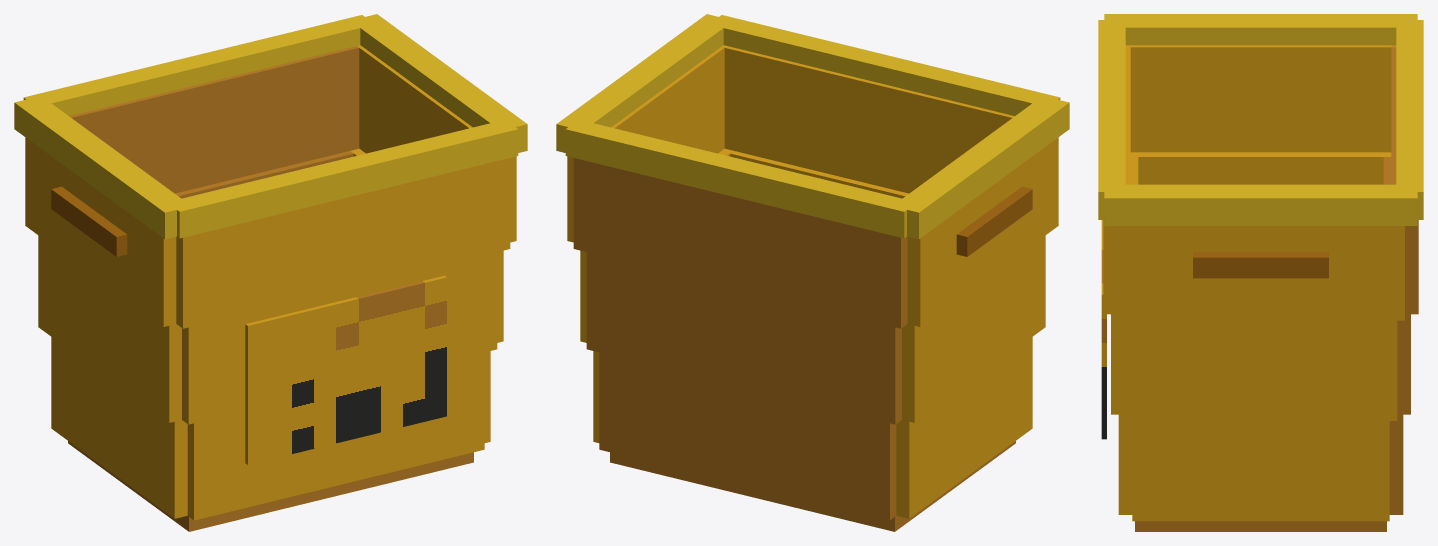
Rendered from CMU3DHandRMCBucketJanitorialCloud.glb.
3 renders of one model, left to right at view 1: azimuth 30°, elevation 25°; view 2: azimuth 150°, elevation 25°; view 3: azimuth 270°, elevation 25°, orthographic. The views are drawn at different scales.
Visible parts, largest first — view 1: janitorial end wall 2--1, original janitorial front warning, janitorial end wall 2-1, janitorial end wall 0--1, janitorial end wall 1--1, open yellow rim end -1, janitorial side wall 1--1, janitorial side wall 0--1, janitorial side wall 2--1, open yellow rim end 1, open yellow rim side -1, janitorial side wall 2-1 (+6 smaller); view 2: janitorial end wall 1-1, janitorial end wall 2-1, janitorial end wall 0-1, janitorial end wall 2--1, open yellow rim end 1, janitorial side wall 1--1, janitorial side wall 0--1, janitorial side wall 2--1, open yellow rim end -1, open yellow rim side -1, janitorial side wall 2-1, open yellow rim side 1 (+5 smaller); view 3: janitorial side wall 2--1, janitorial side wall 1-1, janitorial side wall 0-1, janitorial side wall 2-1, open yellow rim side 1, open yellow rim side -1, janitorial side wall 1--1, open yellow rim end -1, open yellow rim end 1, molded side grip 1, janitorial bucket base, janitorial end wall 2-1 (+6 smaller).
Boxes of the visible parts, left/top/right/bottom form: janitorial end wall 2--1: left=176, top=158, right=510, bottom=328; original janitorial front warning: left=245, top=275, right=446, bottom=464; janitorial end wall 2-1: left=69, top=45, right=360, bottom=193; janitorial end wall 0--1: left=187, top=352, right=484, bottom=520; janitorial end wall 1--1: left=182, top=252, right=497, bottom=424; open yellow rim end -1: left=168, top=120, right=518, bottom=238; janitorial side wall 1--1: left=38, top=235, right=181, bottom=422; janitorial side wall 0--1: left=51, top=337, right=187, bottom=518; janitorial side wall 2--1: left=25, top=137, right=176, bottom=326; open yellow rim end 1: left=23, top=15, right=371, bottom=115; open yellow rim side -1: left=14, top=96, right=191, bottom=239; janitorial side wall 2-1: left=357, top=45, right=516, bottom=242; janitorial end wall 1-1: left=586, top=252, right=901, bottom=424; janitorial end wall 2-1: left=573, top=158, right=907, bottom=328; janitorial end wall 0-1: left=599, top=352, right=896, bottom=520; janitorial end wall 2--1: left=722, top=45, right=1014, bottom=193; open yellow rim end 1: left=565, top=123, right=916, bottom=238; janitorial side wall 1--1: left=902, top=235, right=1045, bottom=422; janitorial side wall 0--1: left=896, top=337, right=1032, bottom=518; janitorial side wall 2--1: left=907, top=137, right=1058, bottom=326; open yellow rim end -1: left=709, top=15, right=1060, bottom=115; open yellow rim side -1: left=892, top=96, right=1069, bottom=239; janitorial side wall 2-1: left=567, top=45, right=726, bottom=242; open yellow rim side 1: left=556, top=14, right=733, bottom=152; janitorial side wall 2--1: left=1125, top=45, right=1396, bottom=152; janitorial side wall 1-1: left=1124, top=320, right=1397, bottom=420; janitorial side wall 0-1: left=1132, top=421, right=1389, bottom=521; janitorial side wall 2-1: left=1117, top=226, right=1404, bottom=320; open yellow rim side 1: left=1104, top=184, right=1417, bottom=225; open yellow rim side -1: left=1104, top=14, right=1417, bottom=45; janitorial side wall 1--1: left=1130, top=152, right=1391, bottom=184; open yellow rim end -1: left=1098, top=20, right=1125, bottom=219; open yellow rim end 1: left=1396, top=20, right=1423, bottom=219; molded side grip 1: left=1193, top=252, right=1328, bottom=278; janitorial bucket base: left=1135, top=521, right=1386, bottom=531; janitorial end wall 2-1: left=1391, top=45, right=1418, bottom=314.
Bounding box in the file's own units: 0.528 × 0.458 × 0.382.
Materials: 5 (1 with a texture image).
